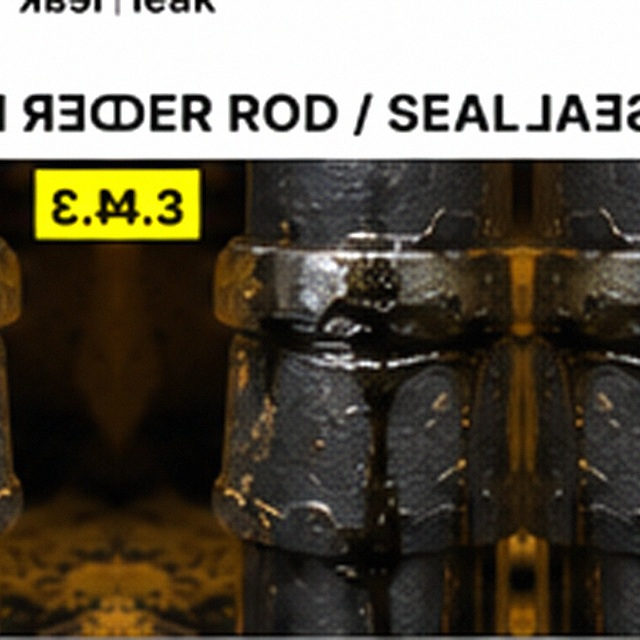hydraulic_oil_leak: (179, 245, 419, 483)
